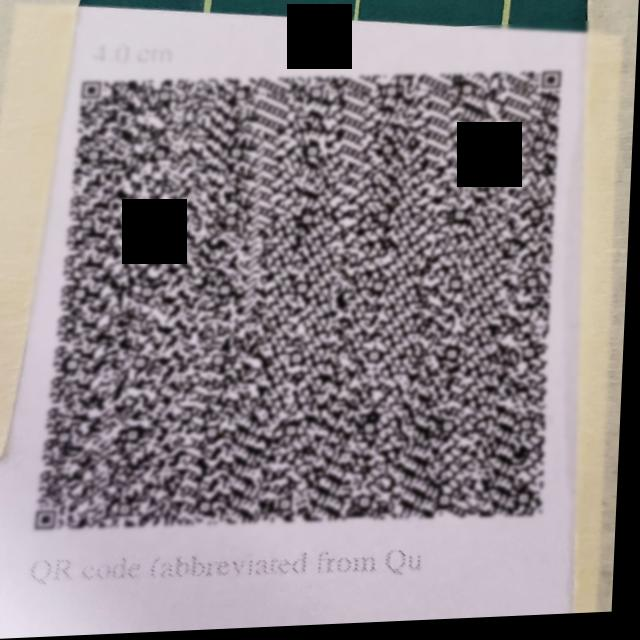QR_CODE: (23, 26, 605, 560)
